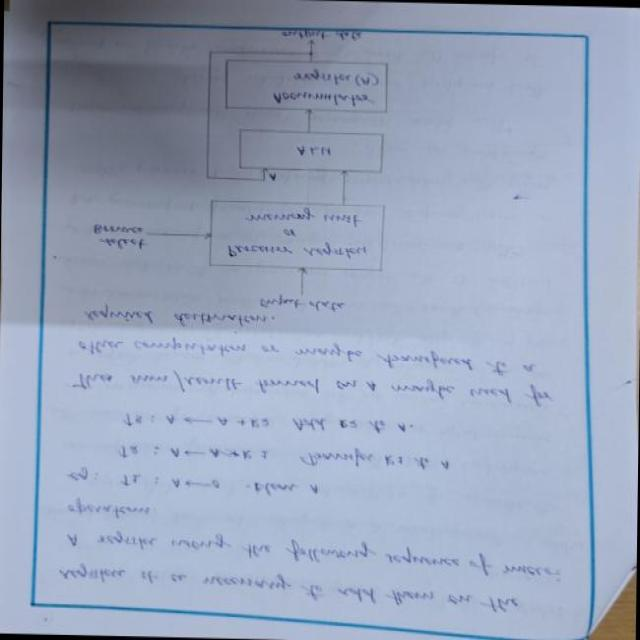Figure Detection - v3 Dataset Version2: (77, 22, 436, 318)
